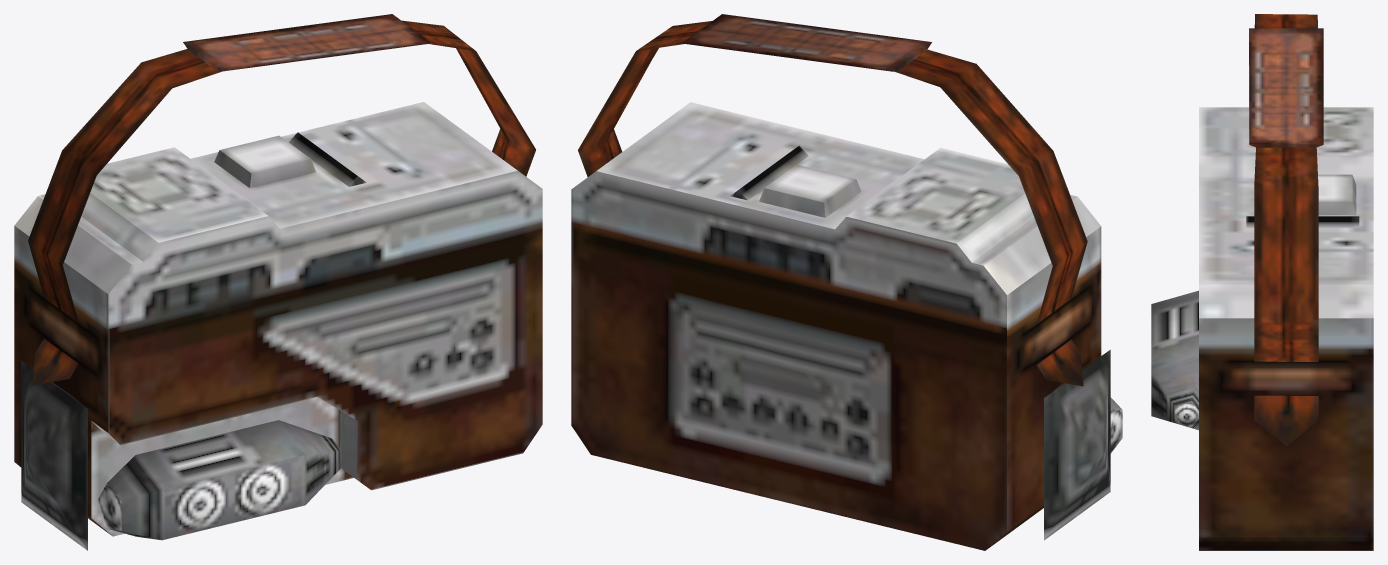
Rendered from eqp_tool_computer_toolkit_l0.fbx.
3 views of the same model, side by side, from view 1: azimuth 30°, elevation 25°; view 2: azimuth 150°, elevation 25°; view 3: azimuth 270°, elevation 25° (orthographic). The views are drawn at different scales.
Parts seen in each view (by area): view 1: mesh_node; view 2: mesh_node; view 3: mesh_node.
Boxes of the visible parts, <box> form: mesh_node: <box>14,14,542,550</box>; mesh_node: <box>571,14,1122,550</box>; mesh_node: <box>1151,14,1373,550</box>.
Size of the model in its own units: 0.3541 by 0.2849 by 0.1441.
